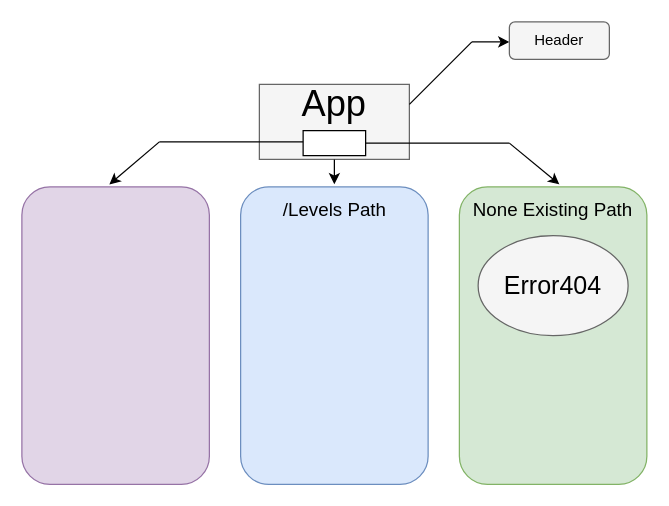
Image size: 669x506. Some labels were removed from this diagram. Here are the shapes that lost their labels. From the top down, the centre of each, then its label:
[334,142]: Routes
[115,335]: / Path
